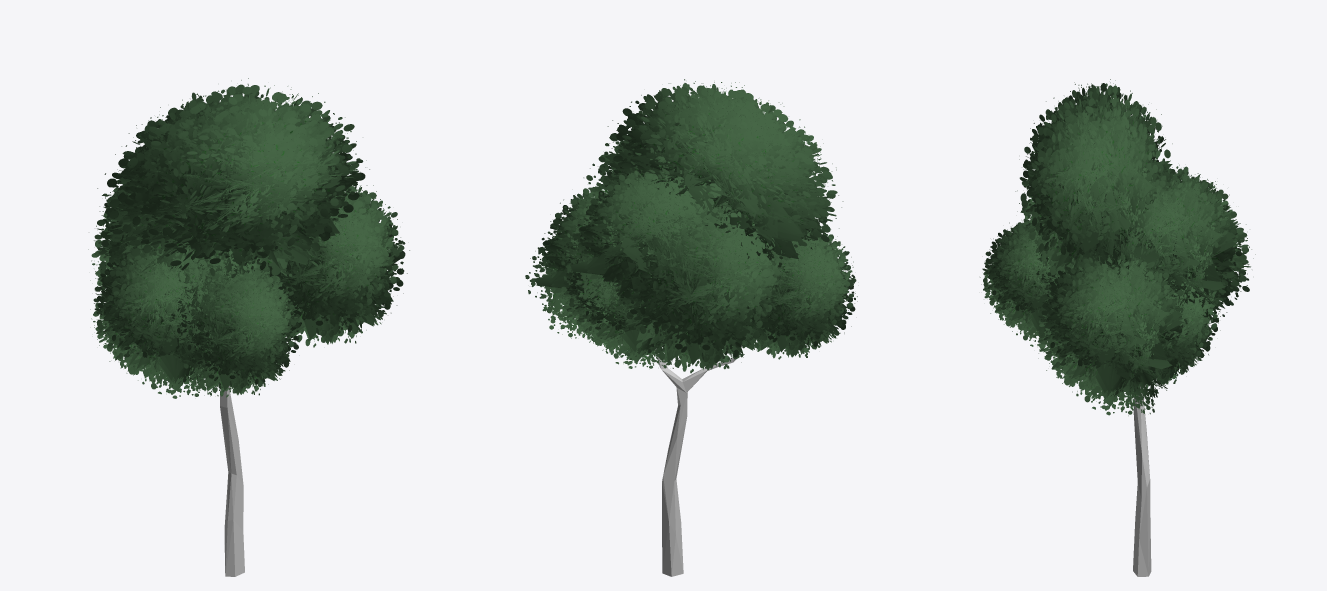
The model's file is birchaleavs1.fbx.
The picture shows the model from 3 angles, left to right: view 1: azimuth 30°, elevation 25°; view 2: azimuth 150°, elevation 25°; view 3: azimuth 270°, elevation 25°; orthographic projection. The views are drawn at different scales.
Visible parts, largest first — view 1: Plane.002, Circle; view 2: Plane.002, Circle; view 3: Plane.002, Circle.
Part boxes in pixels (bbox=[...]): Plane.002: bbox=[88, 78, 409, 398]; Circle: bbox=[220, 386, 244, 576]; Plane.002: bbox=[525, 79, 857, 373]; Circle: bbox=[655, 345, 741, 576]; Plane.002: bbox=[980, 79, 1255, 415]; Circle: bbox=[1133, 386, 1151, 576].
Size of the model in its own units: 2345 by 2980 by 1933.
